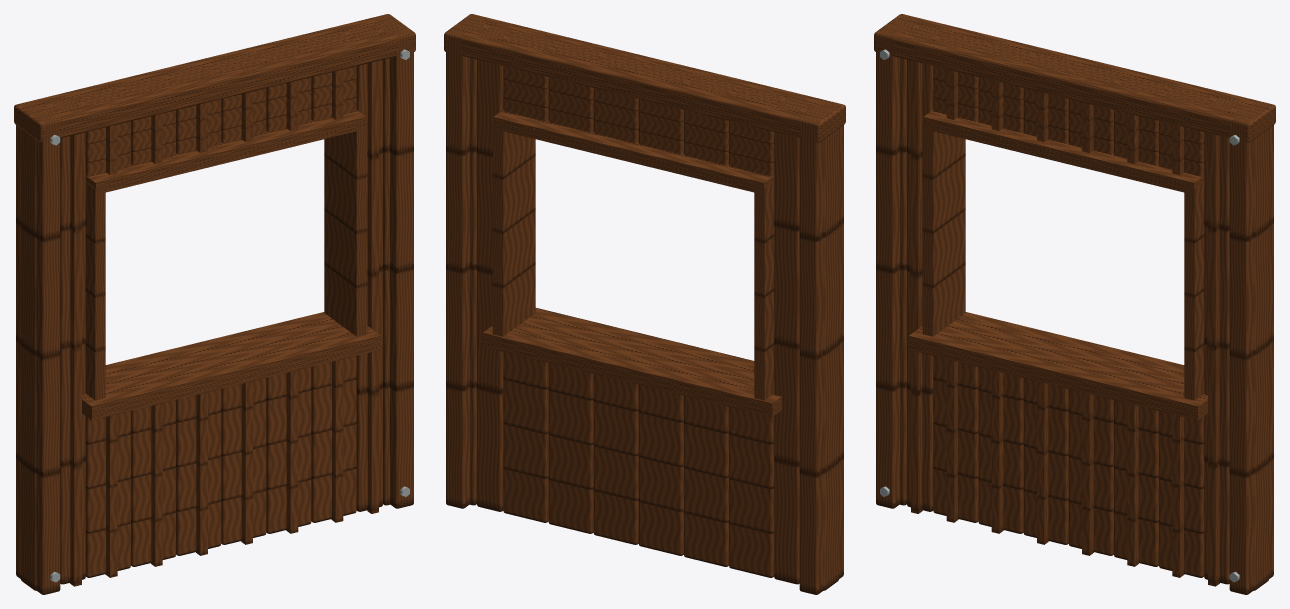
The model's file is rural-scavenging-settlements-cottage-service-wall-16229e42__26456.glb.
3 views of the same model, side by side, from view 1: azimuth 30°, elevation 25°; view 2: azimuth 150°, elevation 25°; view 3: azimuth 330°, elevation 25° (orthographic).
Visible parts, largest first — view 1: cottage-service-wall; view 2: cottage-service-wall; view 3: cottage-service-wall.
Part boxes in pixels (x1,y1,x2,y2): cottage-service-wall: [14, 14, 415, 594]; cottage-service-wall: [444, 14, 845, 594]; cottage-service-wall: [874, 14, 1275, 594].
Size of the model in its own units: 2 by 2.4 by 0.3601.
Materials: 2 (1 with a texture image).
